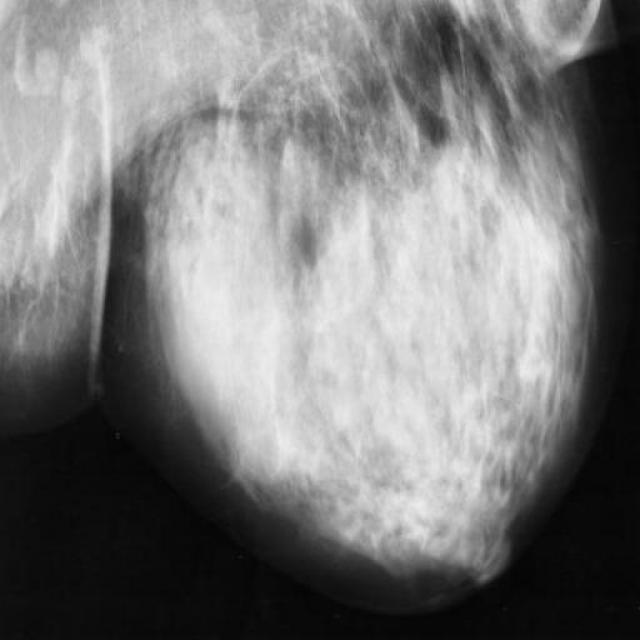cancer: (262, 249, 318, 329)
